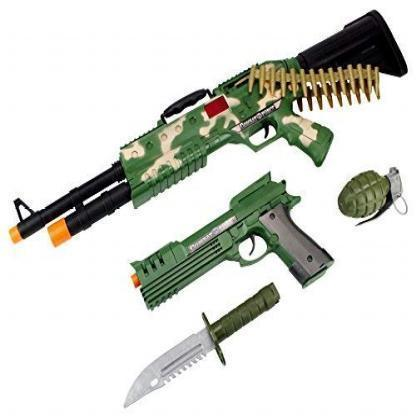Grenade: (337, 164, 410, 230)
Gun: (7, 6, 410, 251)
Knife: (122, 280, 282, 410)
Pistol: (129, 169, 336, 314)
